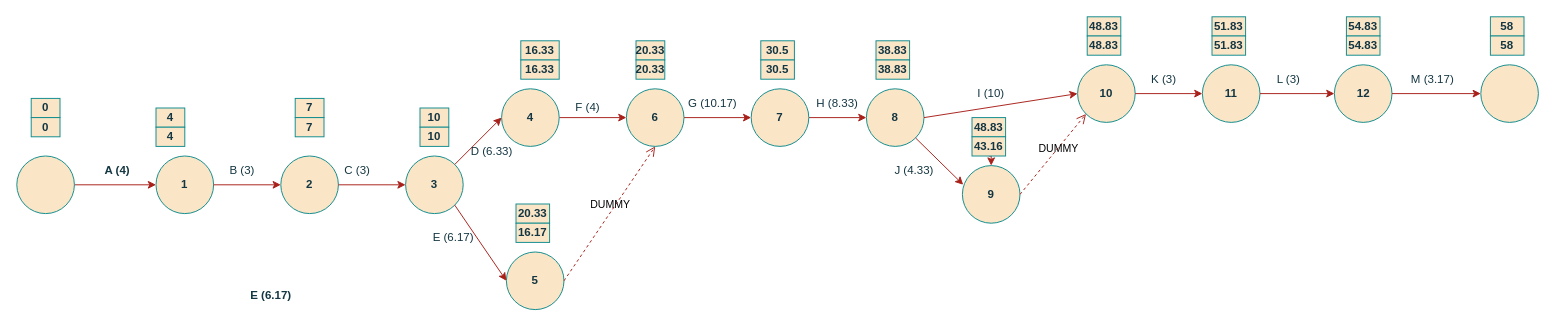
The diagram is 1555 pixels wide and 326 high, and some of its shapes have lost their labels. Each missing label, with the centre of its shape:
END: pixel 1509 93
start: pixel 45 184
